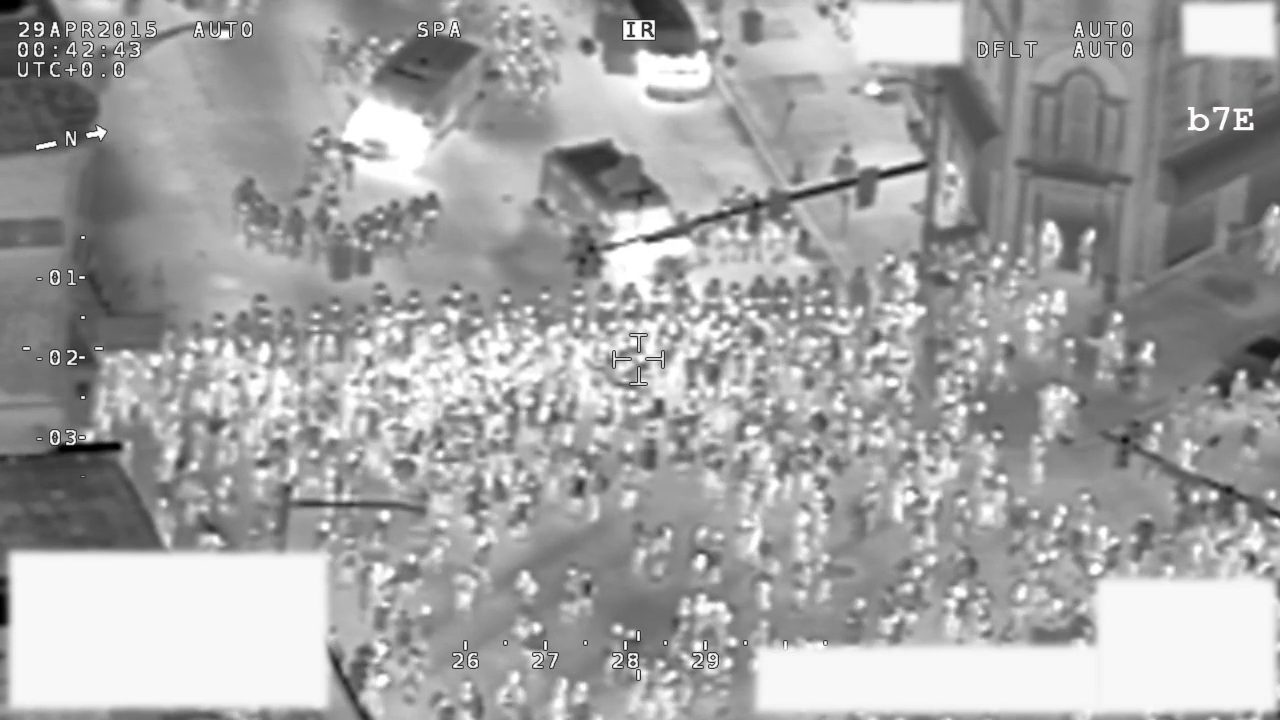vehicle: (533, 136, 706, 298), (336, 31, 494, 181), (595, 1, 730, 110)
